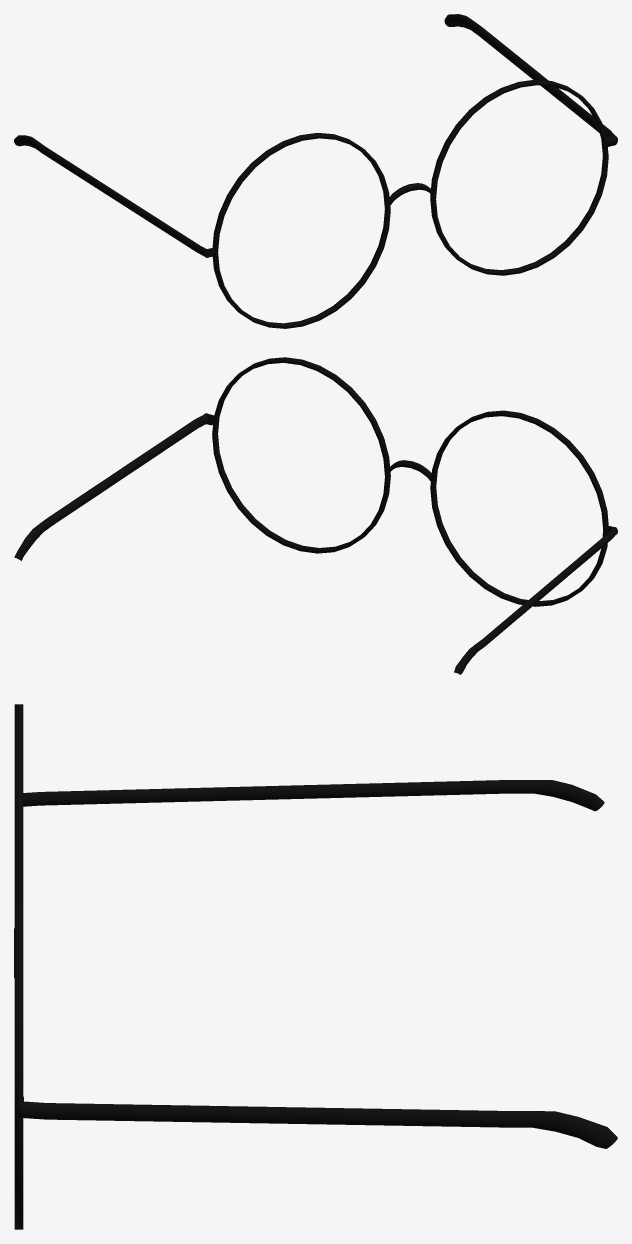
Rendered from 13-Glasses-15284805647.glb.
3 views of the same model, one above another, from view 1: azimuth 30°, elevation 25°; view 2: azimuth 150°, elevation 25°; view 3: azimuth 270°, elevation 25° (orthographic). The views are drawn at different scales.
Parts seen in each view (by area): view 1: 13-Glasses-15284805647; view 2: 13-Glasses-15284805647; view 3: 13-Glasses-15284805647.
Boxes of the visible parts, x1=… form: 13-Glasses-15284805647: x1=14, y1=14, x2=617, y2=328; 13-Glasses-15284805647: x1=14, y1=357, x2=617, y2=674; 13-Glasses-15284805647: x1=14, y1=704, x2=617, y2=1229.
Bounding box in the file's own units: 1.21 × 0.4958 × 0.8567.
Materials: 1 (1 with a texture image).
